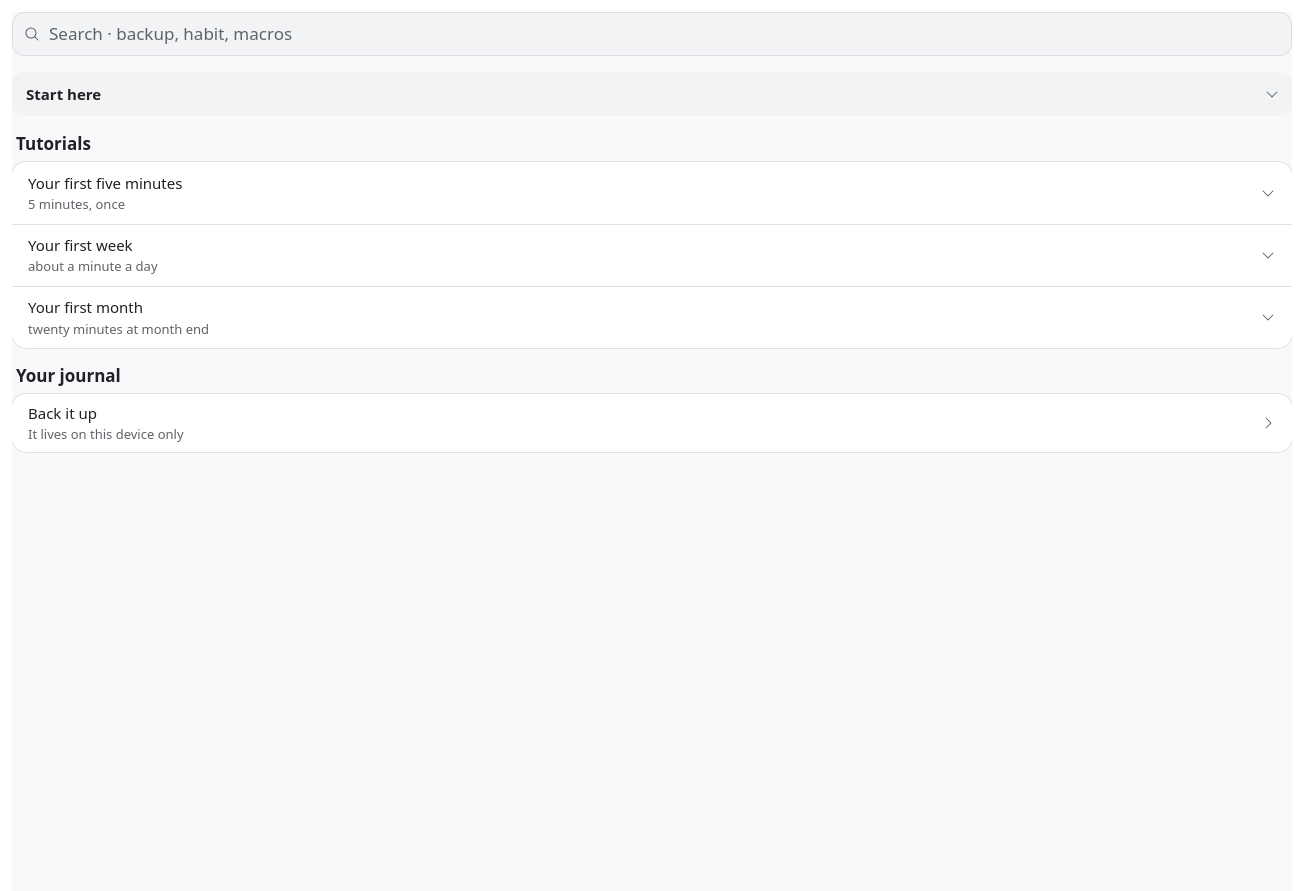
Test: Help on a phone › reaches the glossary through the one select, not a fold with its own rail
Select "Abbreviations · 21" in the dropdown at (652, 94), box [12,72,1292,116]
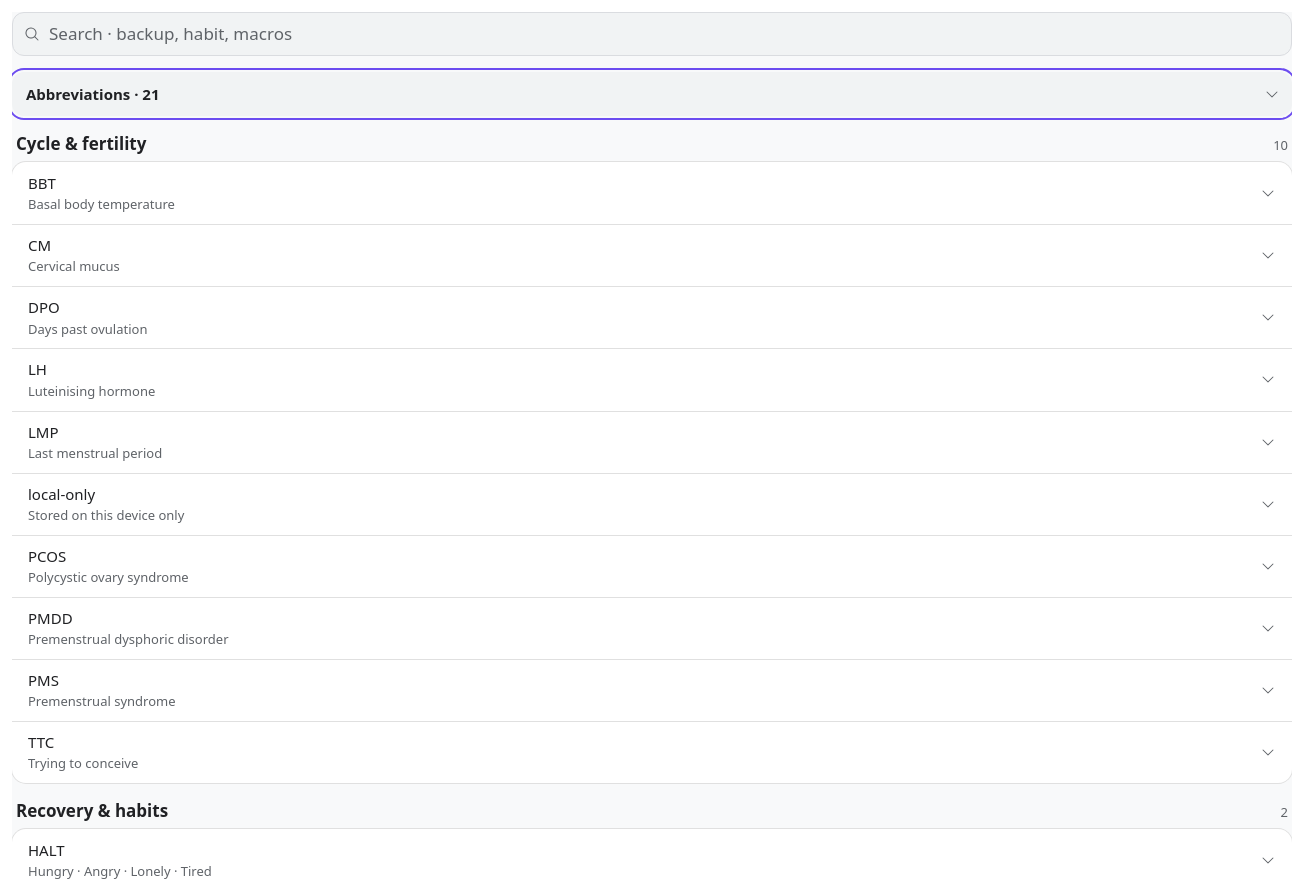
Expected: the number of navigation bars is 1, [12,72,1292,116]
Now the element "Cycle & fertility" is shown
